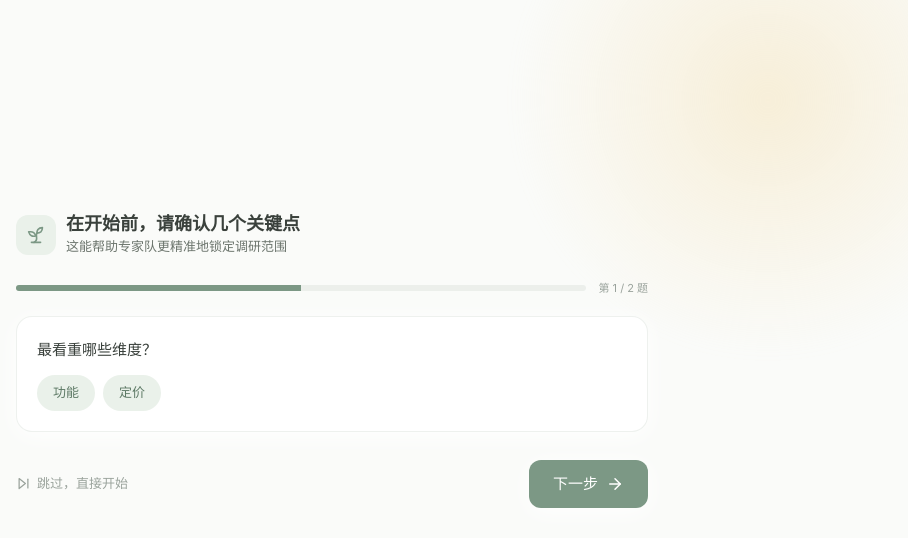
T-AutoAdvance 自动前进（单选 + 多选） › TC-AA6 多选取消到 0 项不自动前进，按钮回到「下一步」
Expected: the text "最看重哪些维度？" is shown, [37,340,157,359]
Click the button "功能". click: x=66, y=392
box: [37,374,95,410]
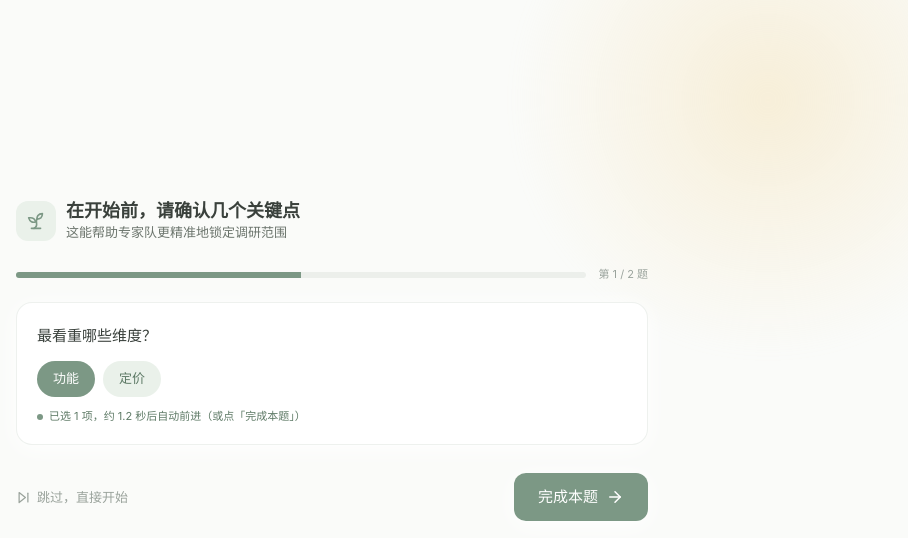
Result: the button "完成本题" is shown at [514,473,648,521]
Click the button "功能". click: x=66, y=379
box: [37,361,95,397]
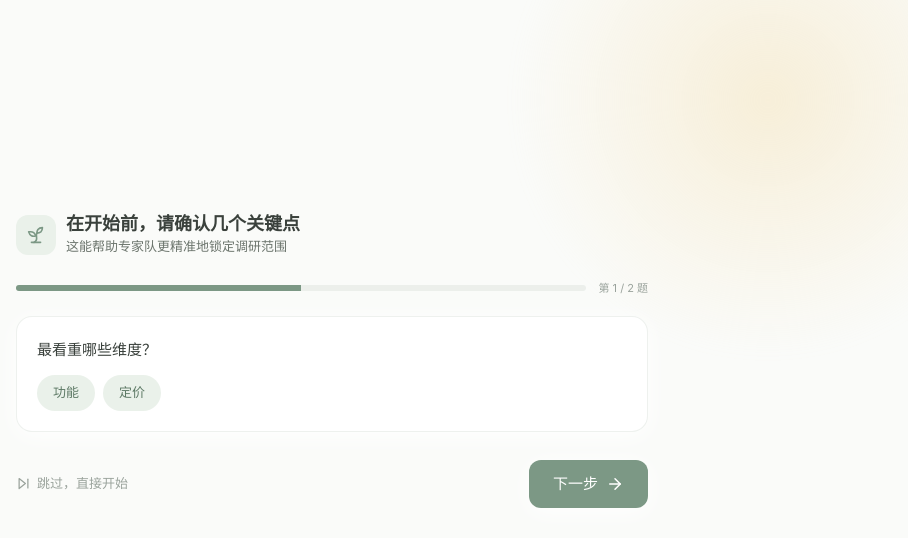
Expected: the text "最看重哪些维度？" is shown, [37,340,157,359]
Result: the button "下一步" is shown at [529,460,648,508]
